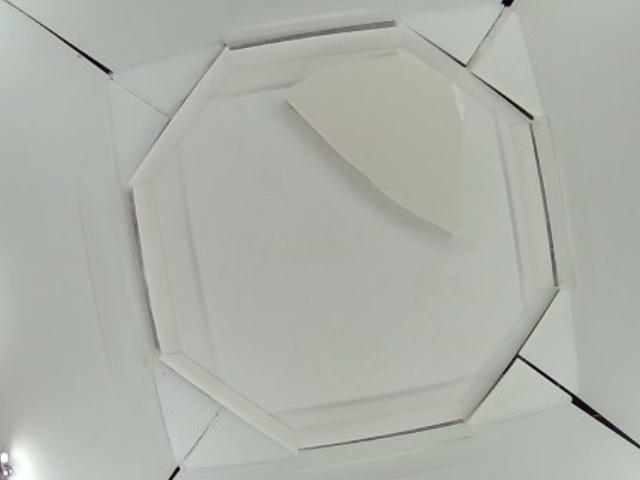China: (288, 51, 479, 235)
